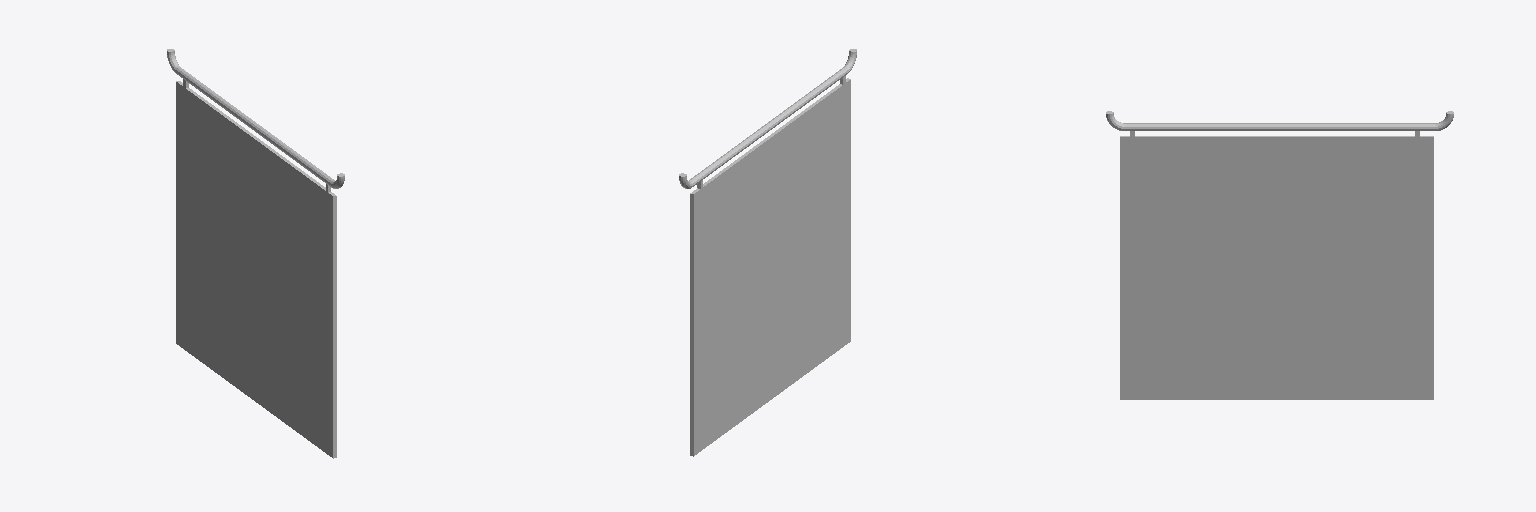
Rendered from CurtRail.obj.
The picture shows the model from 3 angles: view 1: azimuth 30°, elevation 25°; view 2: azimuth 150°, elevation 25°; view 3: azimuth 270°, elevation 25°; orthographic projection.
Visible parts, largest first — view 1: Cube_Cube.002, Torus.001; view 2: Cube_Cube.002, Torus.001; view 3: Cube_Cube.002, Torus.001.
Part boxes in pixels (x1,y1,x2,y2): Cube_Cube.002: (176,79,336,458); Torus.001: (167,49,344,188); Cube_Cube.002: (690,76,850,456); Torus.001: (679,49,856,188); Cube_Cube.002: (1120,131,1433,399); Torus.001: (1106,111,1453,130).
Bounding box in the file's own units: 0.1284 × 4.98 × 5.5.